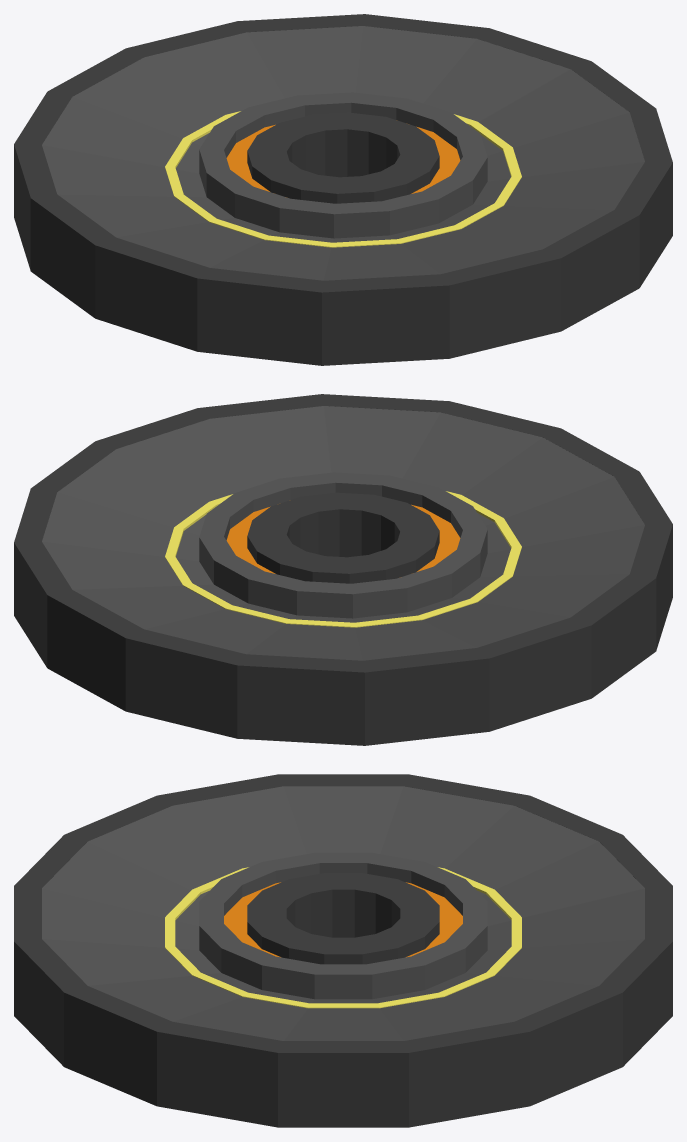
The model's file is flying_wheel_2.obj.
3 views of the same model, one above another, from view 1: azimuth 30°, elevation 25°; view 2: azimuth 150°, elevation 25°; view 3: azimuth 270°, elevation 25° (orthographic).
Visible parts, largest first — view 1: 6, 7, 4, 2, 8, 1; view 2: 6, 7, 4, 2, 8, 1; view 3: 6, 7, 4, 2, 8, 1.
Boxes of the visible parts, x1,y1,x2,y2 form: 6: (42, 26, 644, 280); 7: (14, 14, 672, 365); 4: (199, 92, 487, 238); 2: (247, 112, 439, 203); 8: (165, 111, 521, 247); 1: (226, 124, 460, 193); 6: (42, 406, 644, 660); 7: (14, 394, 672, 745); 4: (199, 472, 487, 618); 2: (247, 492, 439, 583); 8: (165, 491, 521, 627); 1: (226, 504, 460, 573); 6: (42, 786, 644, 1040); 7: (14, 774, 672, 1127); 4: (199, 852, 487, 999); 2: (247, 873, 439, 964); 8: (165, 867, 521, 1008); 1: (224, 882, 462, 957).
Bounding box in the file's own units: 1.5 × 0.1875 × 1.5.
